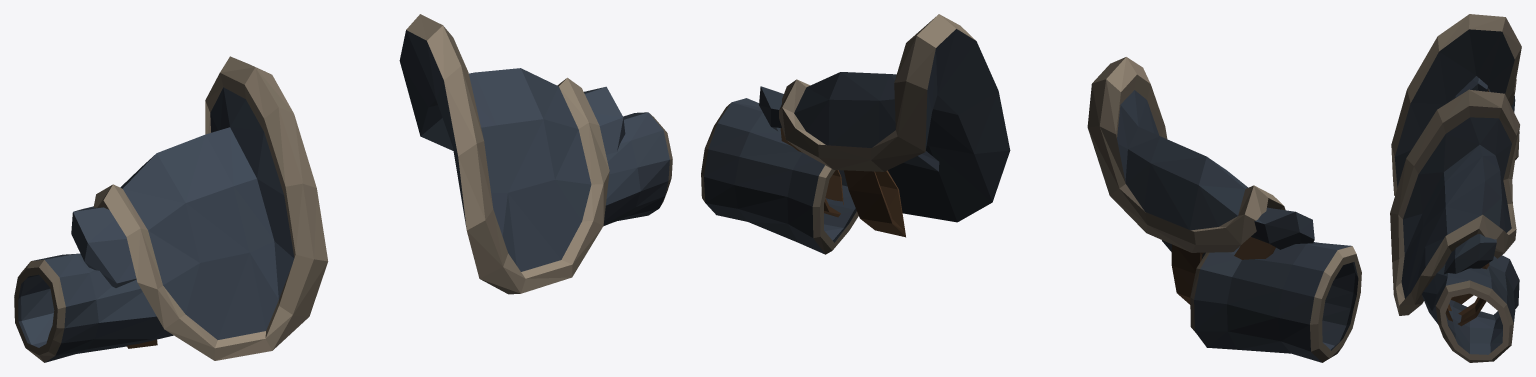
File: dragonslayer_shoulders.glb
3 renders of one model, left to right at view 1: azimuth 30°, elevation 25°; view 2: azimuth 150°, elevation 25°; view 3: azimuth 270°, elevation 25°, orthographic. The views are drawn at different scales.
Visible parts, largest first — view 1: dragonslayer_shoulders; view 2: dragonslayer_shoulders; view 3: dragonslayer_shoulders.
Boxes of the visible parts, x1=… form: dragonslayer_shoulders: x1=14, y1=14, x2=672, y2=362; dragonslayer_shoulders: x1=701, y1=14, x2=1361, y2=362; dragonslayer_shoulders: x1=1390, y1=14, x2=1521, y2=362.
Bounding box in the file's own units: 1 × 0.3922 × 0.2322.
